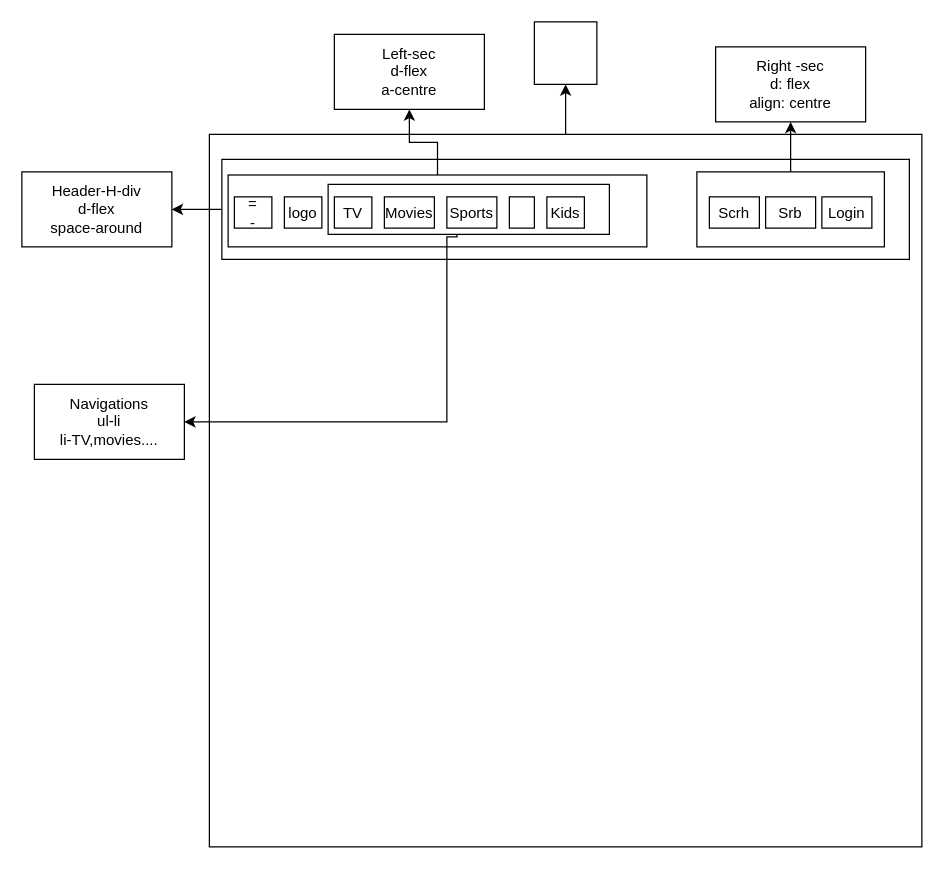
The diagram is 944 pixels wide and 869 high, and some of its shapes have lost their labels. Here are the shapes that lost their labels. From the top down, the box of each, then its label:
(533, 21, 597, 84): M-Div
(508, 196, 534, 228): D+
